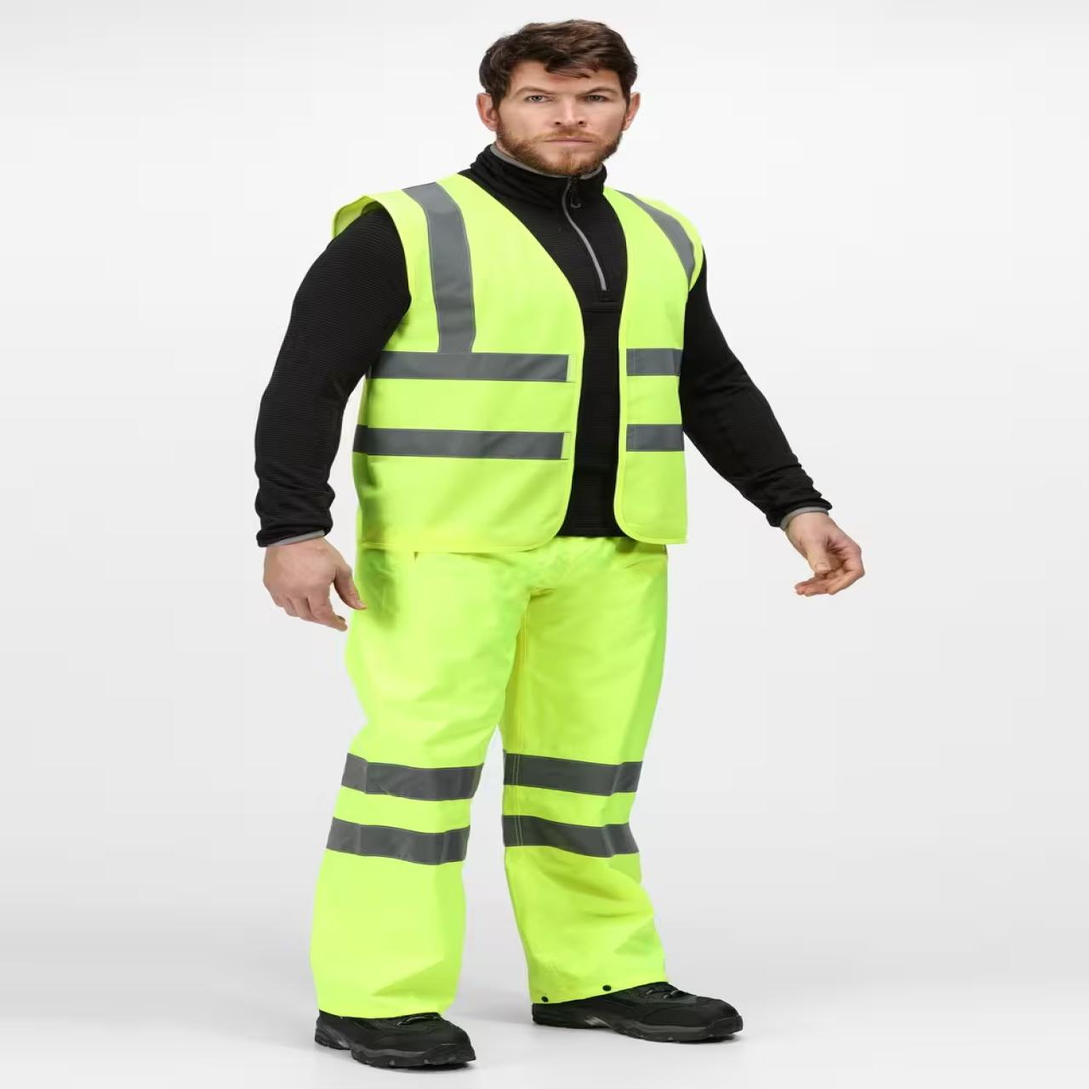Person: (180, 0, 936, 1076)
Safety_Vest: (327, 168, 710, 556)
